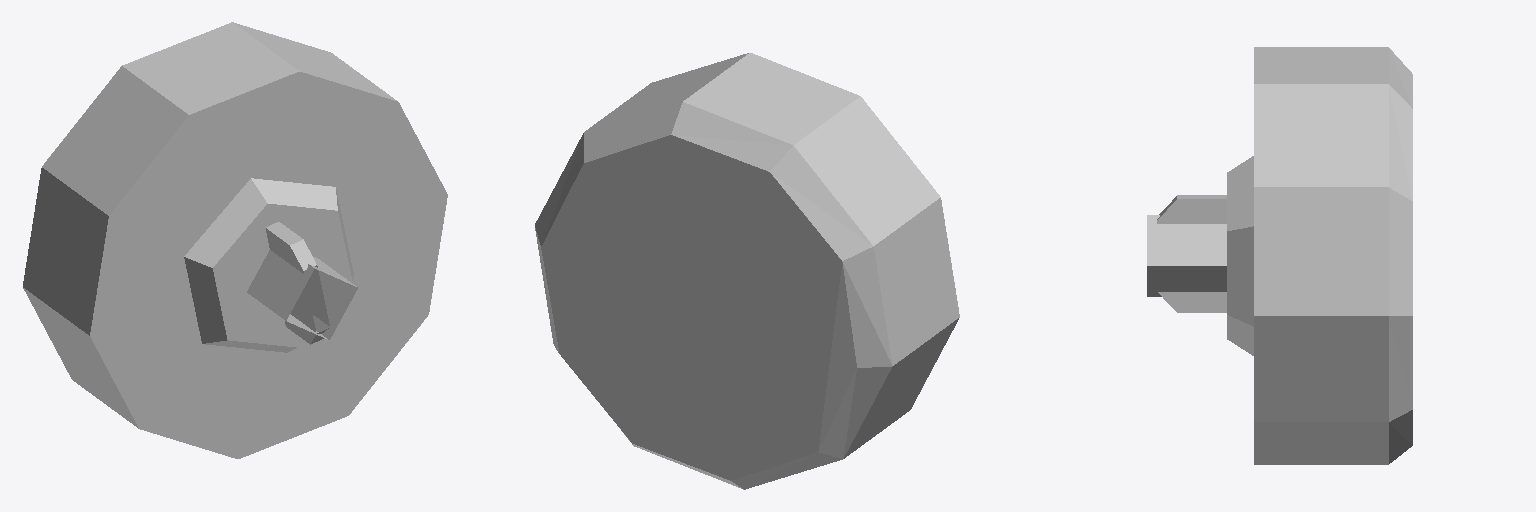
Rendered from wheel49.obj.
3 views of the same model, side by side, from view 1: azimuth 30°, elevation 25°; view 2: azimuth 150°, elevation 25°; view 3: azimuth 270°, elevation 25° (orthographic).
Visible parts, largest first — view 1: wheel_low_textures; view 2: wheel_low_textures; view 3: wheel_low_textures.
Part boxes in pixels (x1,y1,x2,y2): wheel_low_textures: (23, 22, 447, 458); wheel_low_textures: (535, 53, 959, 489); wheel_low_textures: (1147, 47, 1412, 464).
Size of the model in its own units: 1.54 by 1.54 by 0.9907.